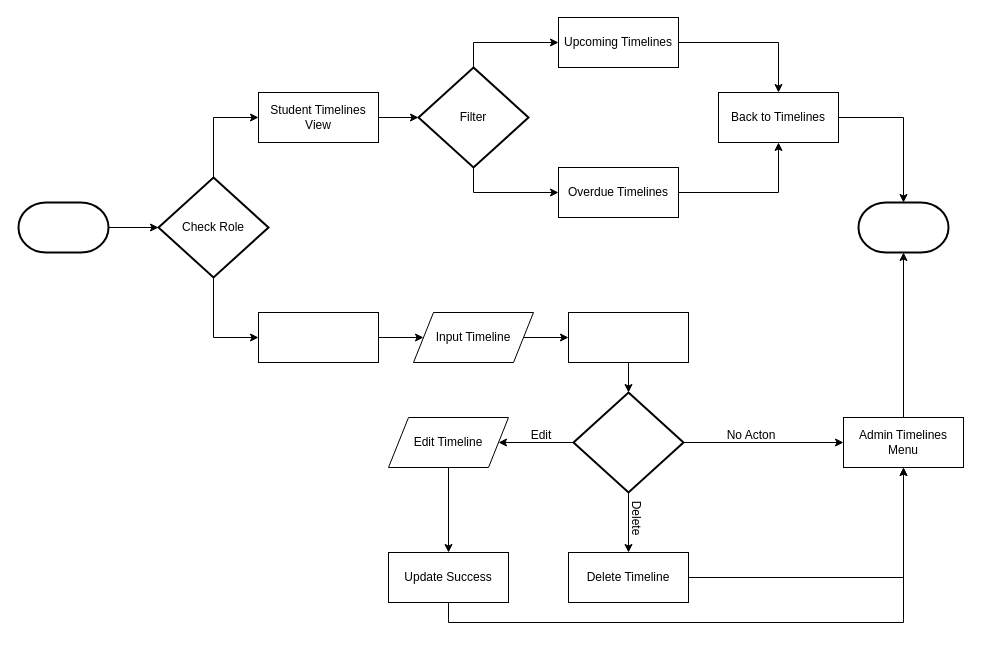
Some shapes in this 981 by 648 pixel diagram are drawn without their labels. The shapes that lost their labels are listed below. From the top down, each one's centre as x and y in pixels, then its label:
At point 63,227: "Start".
At point 903,227: "End".
At point 318,337: "Admin Menu".
At point 628,337: "Create Timeline".
At point 628,442: "Action".
